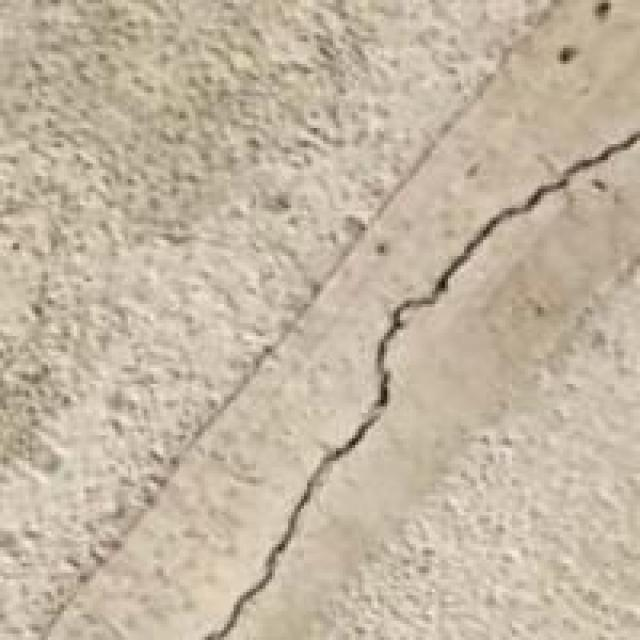crack: (189, 112, 637, 637)
